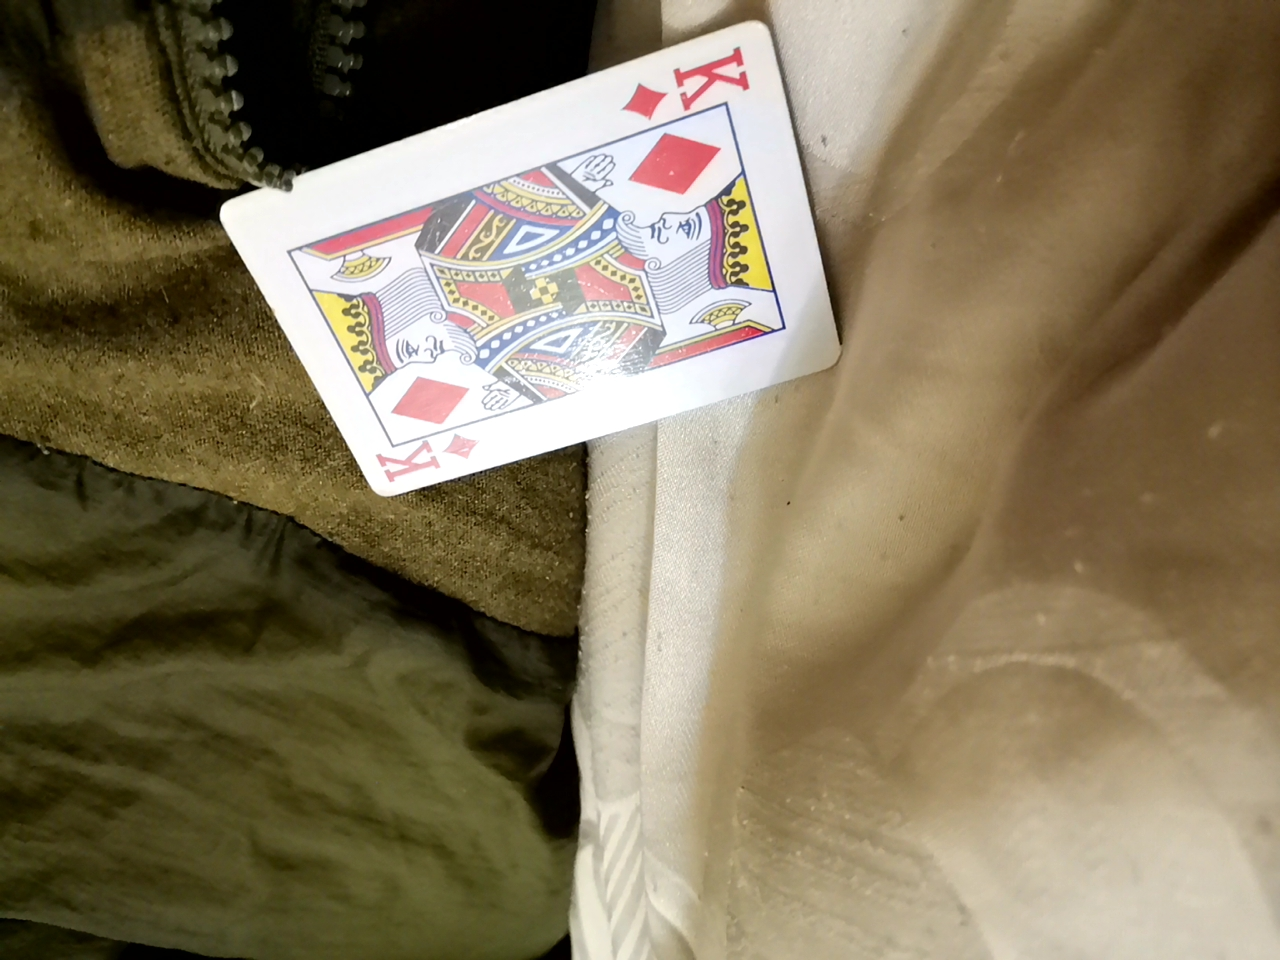fk k: (191, 14, 837, 483)
